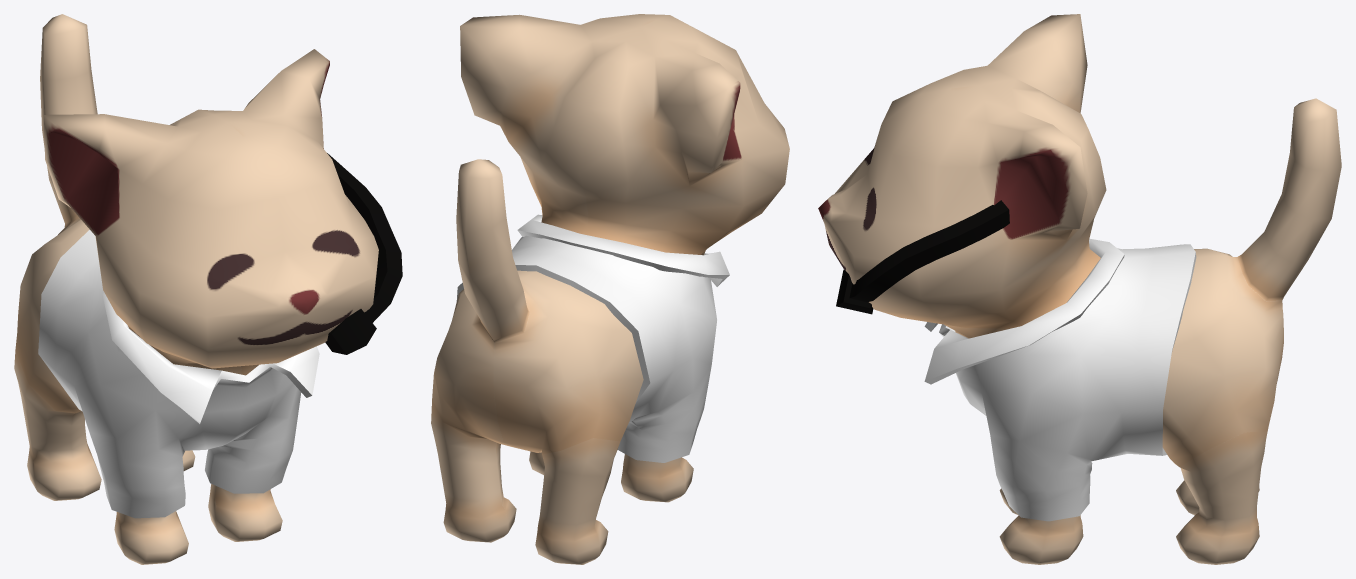
File: Conference Cat01.fbx
3 views of the same model, side by side, from view 1: azimuth 30°, elevation 25°; view 2: azimuth 150°, elevation 25°; view 3: azimuth 270°, elevation 25° (orthographic). The views are drawn at different scales.
Parts seen in each view (by area): view 1: Cat_Base001, Conference_Cat_Shirt, Conference_Cat_Mic; view 2: Cat_Base001, Conference_Cat_Shirt; view 3: Cat_Base001, Conference_Cat_Shirt, Conference_Cat_Mic.
Part boxes in pixels (x1,y1,x2,y2): Cat_Base001: [14, 14, 378, 564]; Conference_Cat_Shirt: [38, 229, 319, 518]; Conference_Cat_Mic: [325, 153, 402, 354]; Cat_Base001: [431, 14, 789, 564]; Conference_Cat_Shirt: [456, 214, 729, 462]; Cat_Base001: [818, 14, 1341, 564]; Conference_Cat_Shirt: [924, 238, 1196, 521]; Conference_Cat_Mic: [836, 200, 1009, 314].
Bounding box in the file's own units: 1.75 × 2.83 × 2.68.
3 materials, 1 textured.
